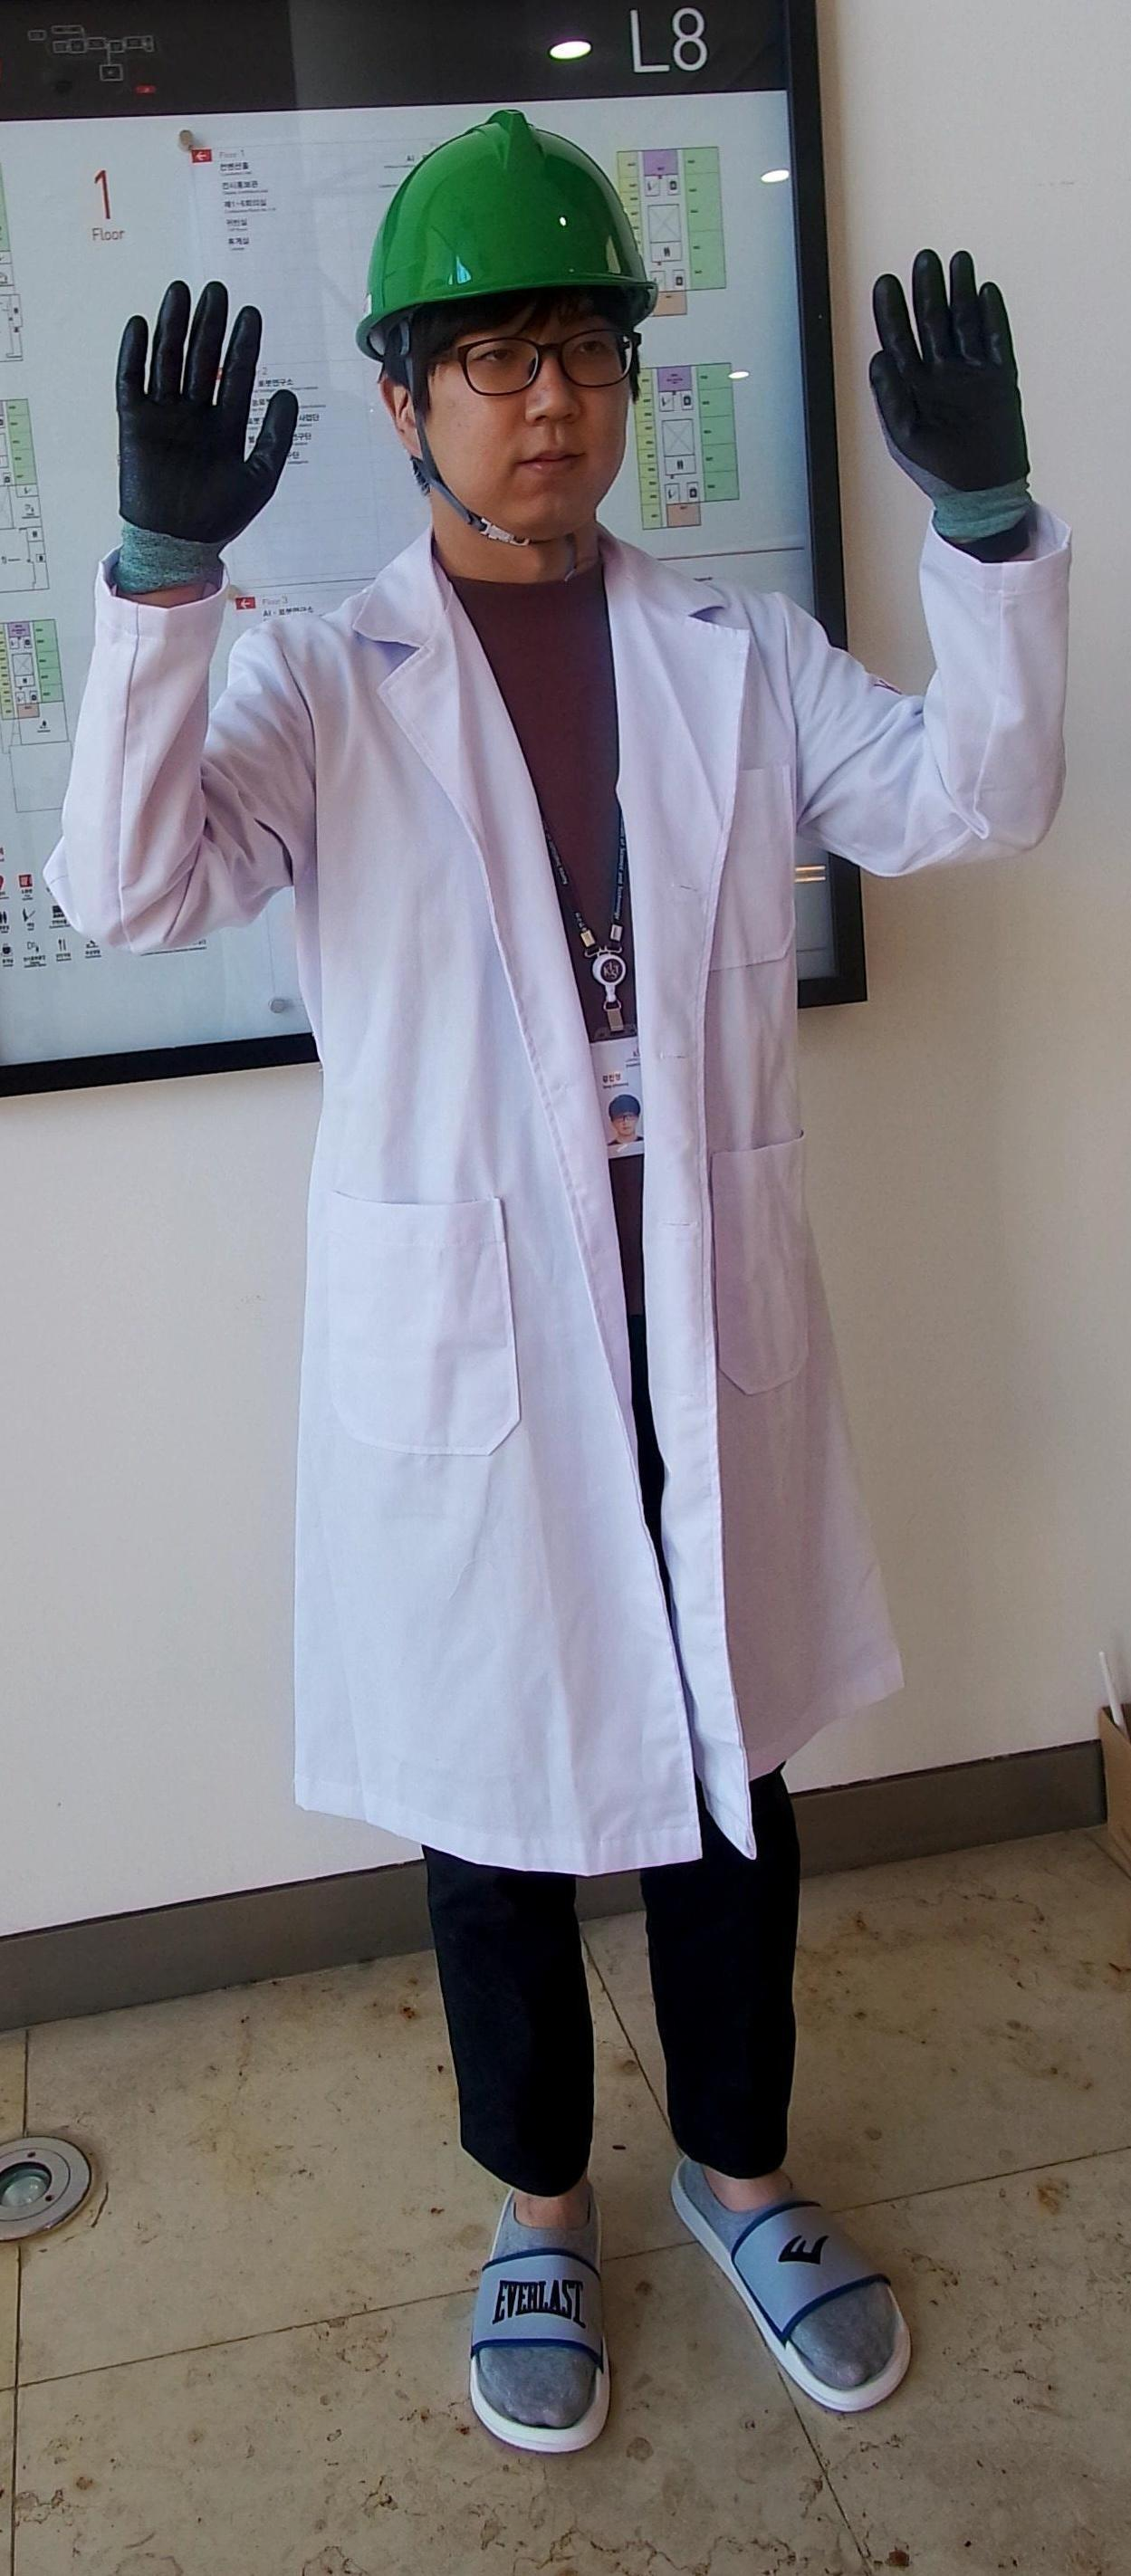lab_coat: (238, 590, 852, 1848)
